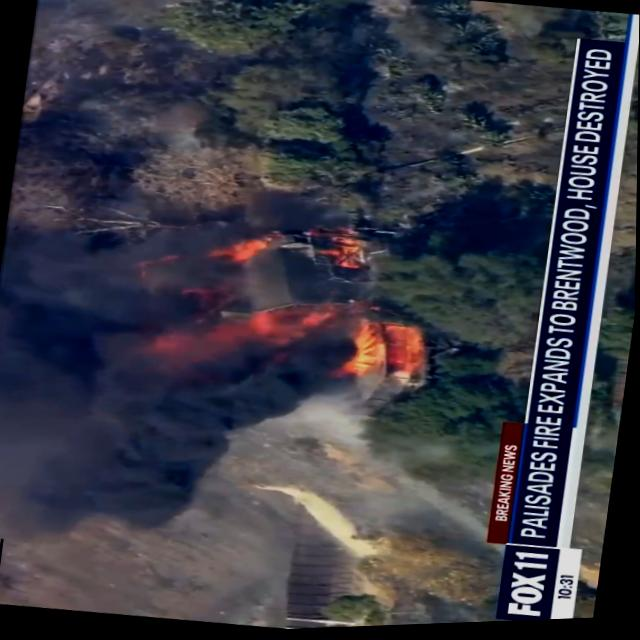Smoke: (0, 209, 366, 562)
